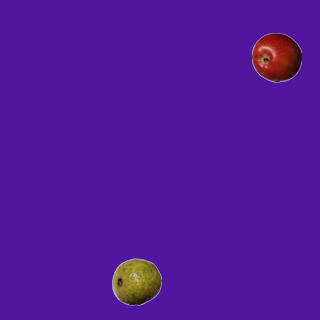Apple Braeburn: (251, 32, 301, 82)
Guava: (111, 256, 161, 306)
